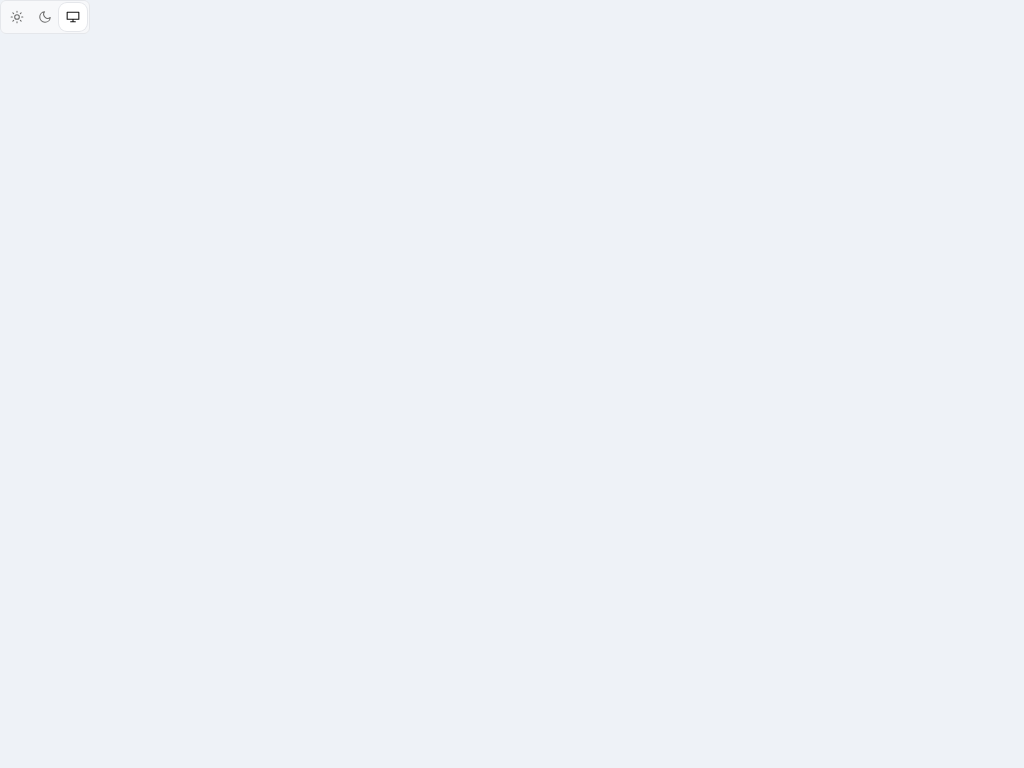
ThemeToggle › es un grupo de radios accesible y aplica el tema elegido al documento
The image size is (1024, 768).
Later steps or results of the test are not shown.
Click the radio button named "Tema oscuro" at (45, 17), box [31,3,59,31]
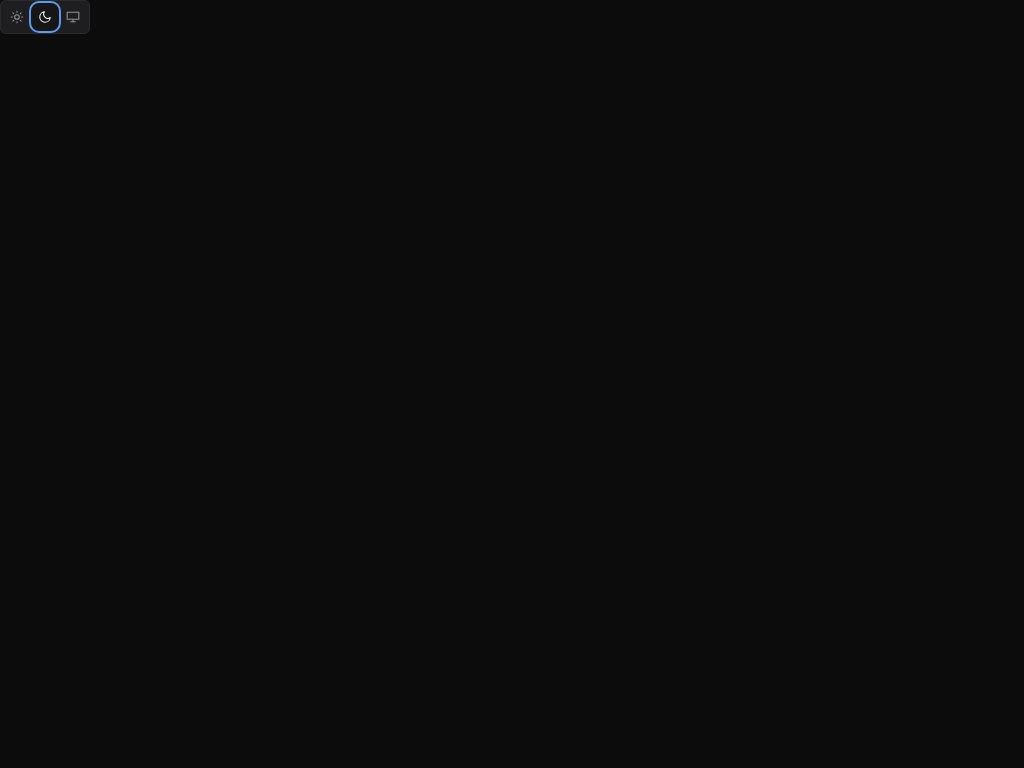
expect the radio button named "Tema oscuro" is checked: met, box [31,3,59,31]
